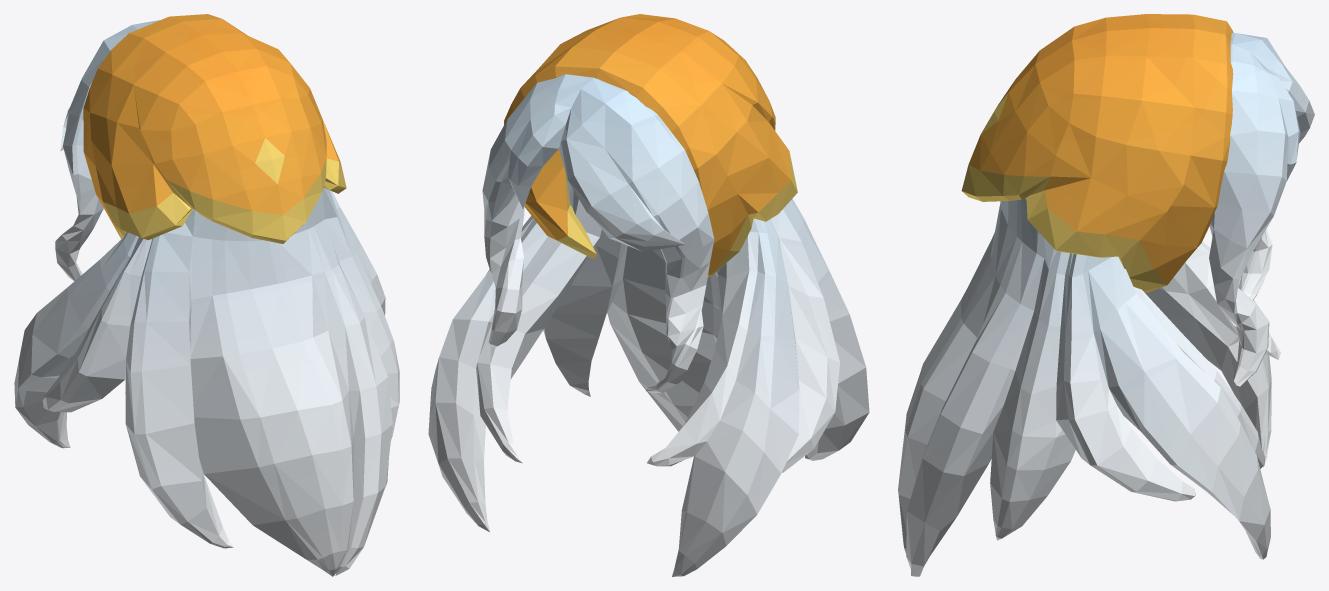
Rendered from CharSkyKid_Hair_BloomSunflowerBandana.glb.
3 renders of one model, left to right at view 1: azimuth 30°, elevation 25°; view 2: azimuth 150°, elevation 25°; view 3: azimuth 270°, elevation 25°, orthographic. The views are drawn at different scales.
Visible parts, largest first — view 1: CharSkyKid_Hair_BloomSunflowerBandana; view 2: CharSkyKid_Hair_BloomSunflowerBandana; view 3: CharSkyKid_Hair_BloomSunflowerBandana.
Part boxes in pixels (bbox=[...]): CharSkyKid_Hair_BloomSunflowerBandana: bbox=[14, 14, 399, 576]; CharSkyKid_Hair_BloomSunflowerBandana: bbox=[428, 14, 869, 576]; CharSkyKid_Hair_BloomSunflowerBandana: bbox=[898, 14, 1314, 576].
Bounding box in the file's own units: 4.42 × 6.26 × 4.44.
1 material, 1 textured.
